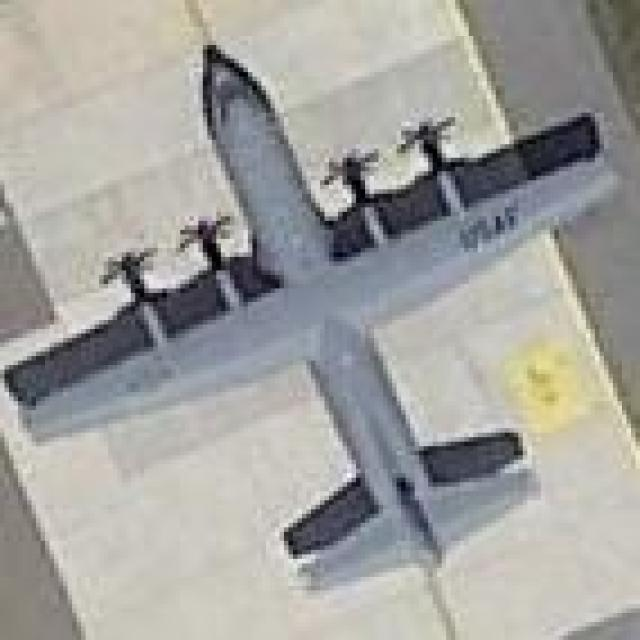C-130_TopDown: (7, 32, 628, 599)
